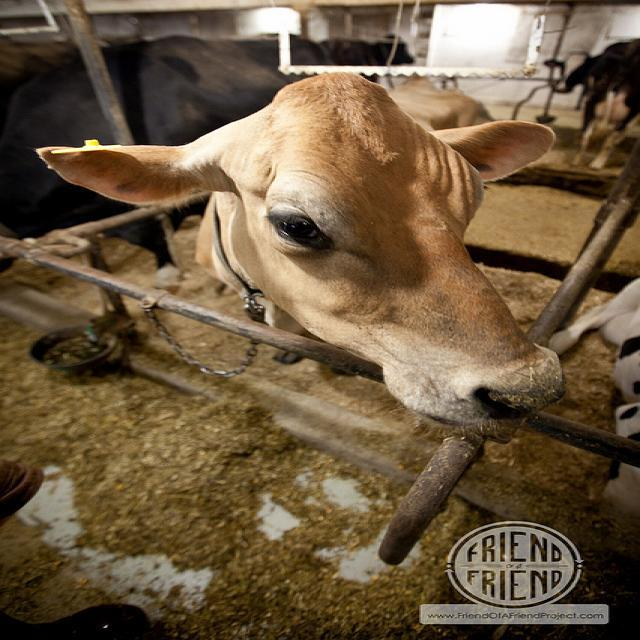cow: (44, 71, 567, 440), (0, 24, 365, 267), (543, 273, 639, 443), (544, 39, 638, 167), (320, 29, 415, 65)
